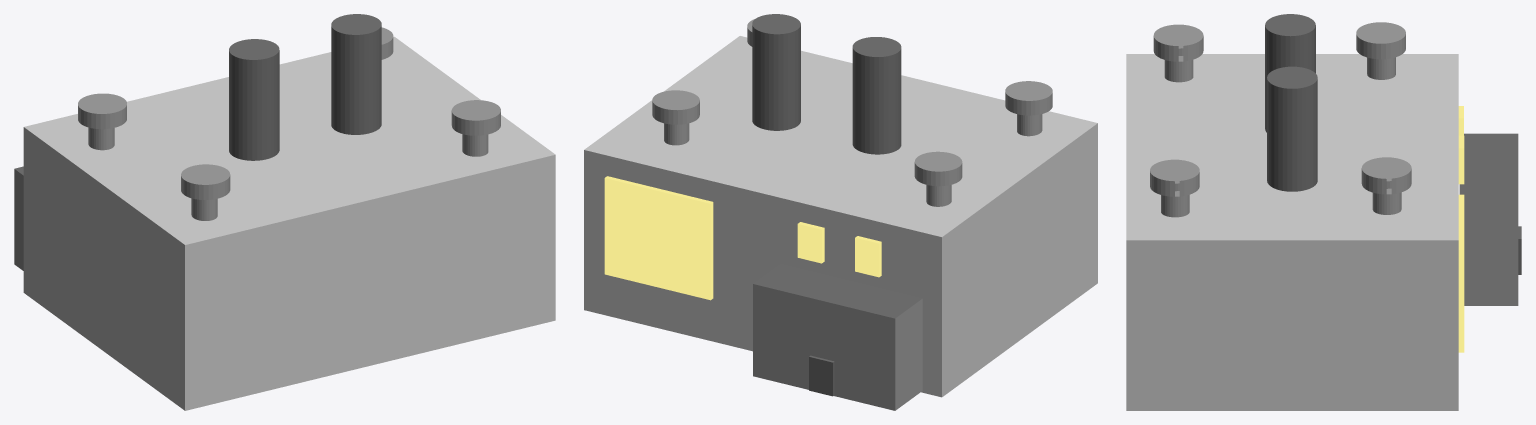
Rendered from boiler.glb.
The picture shows the model from 3 angles, left to right: view 1: azimuth 30°, elevation 25°; view 2: azimuth 150°, elevation 25°; view 3: azimuth 270°, elevation 25°; orthographic projection. The views are drawn at different scales.
Visible parts, largest first — view 1: Cube; view 2: Cube; view 3: Cube.
Boxes of the visible parts, bbox=[...] form: Cube: bbox=[14, 14, 555, 410]; Cube: bbox=[584, 14, 1097, 410]; Cube: bbox=[1126, 14, 1521, 410].
Bounding box in the file's own units: 12.04 × 8.28 × 10.81.
